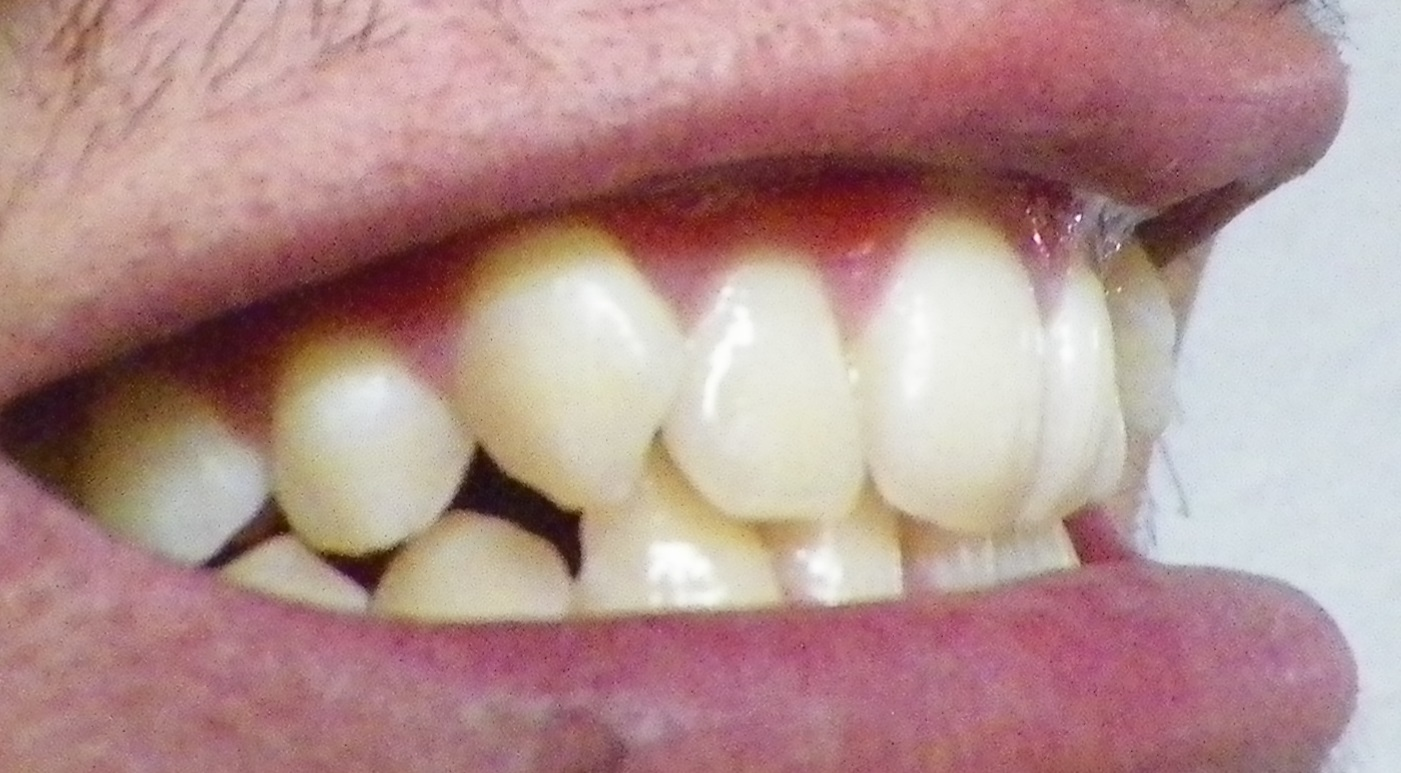boca: (94, 219, 1176, 613)
